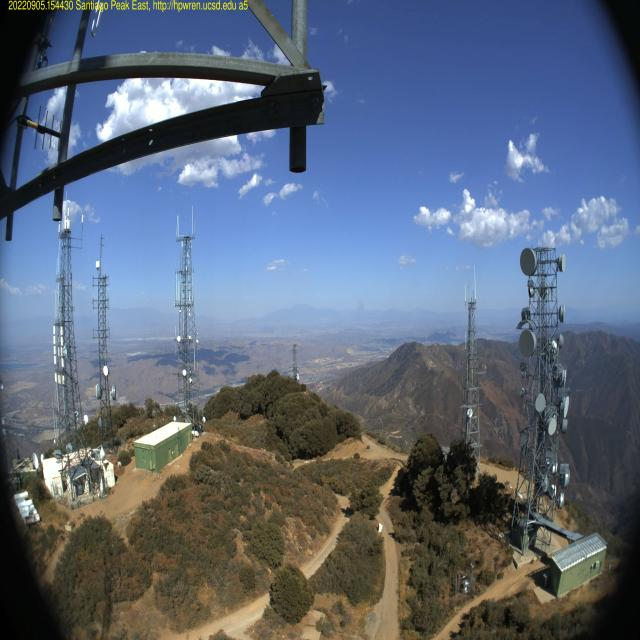smoke: (353, 283, 366, 332)
